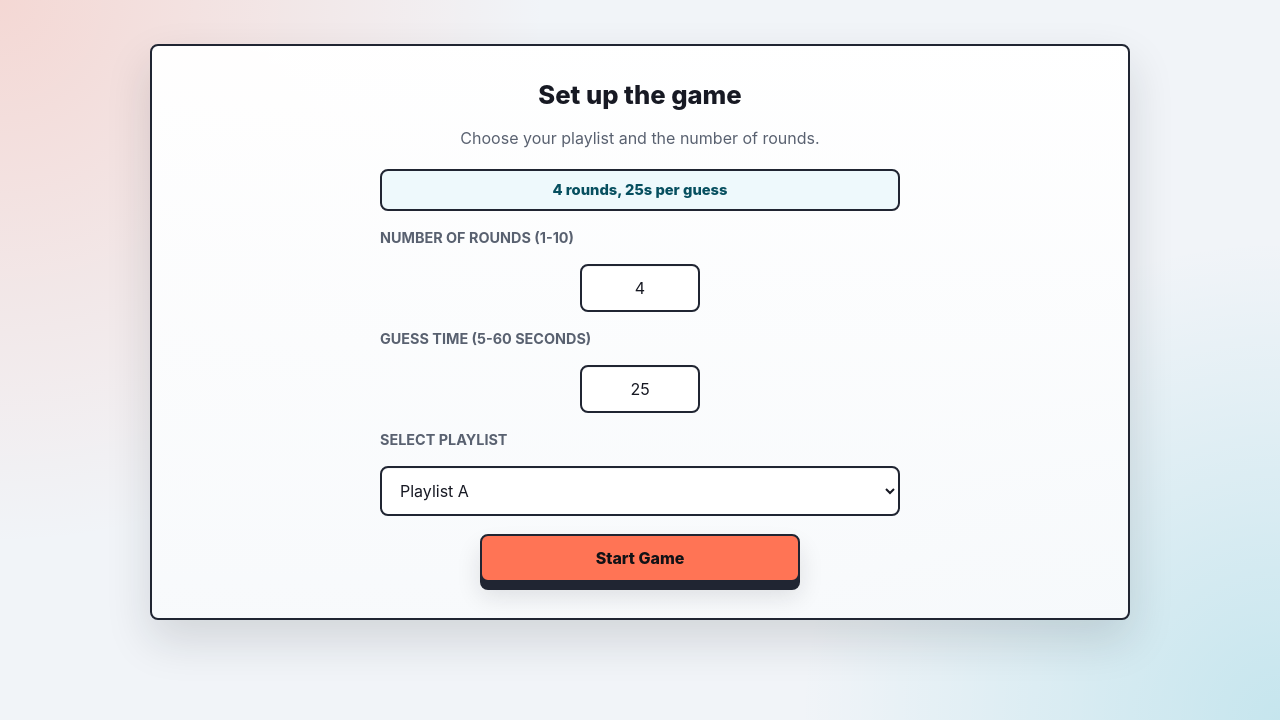
it: SetupScreen › submits setup payload and locks after a successful send
The image size is (1280, 720).
Expected: the text "4 rounds, 25s per guess" is shown, [380,168,900,210]
Replace the text in the field labelled "Number of Rounds (1-10)" with "6" at [640, 288], box [580,264,700,312]
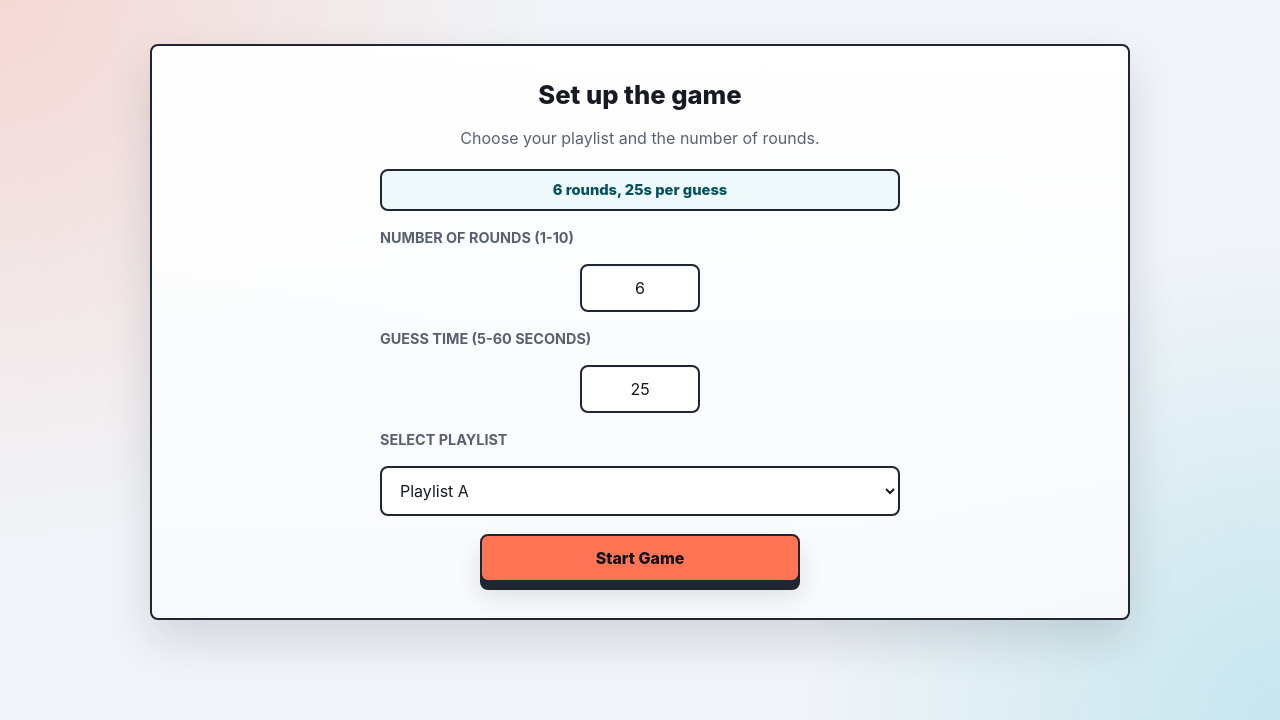
Replace the text in the field labelled "Guess Time (5-60 seconds)" with "30" at [640, 388], box [580,364,700,412]
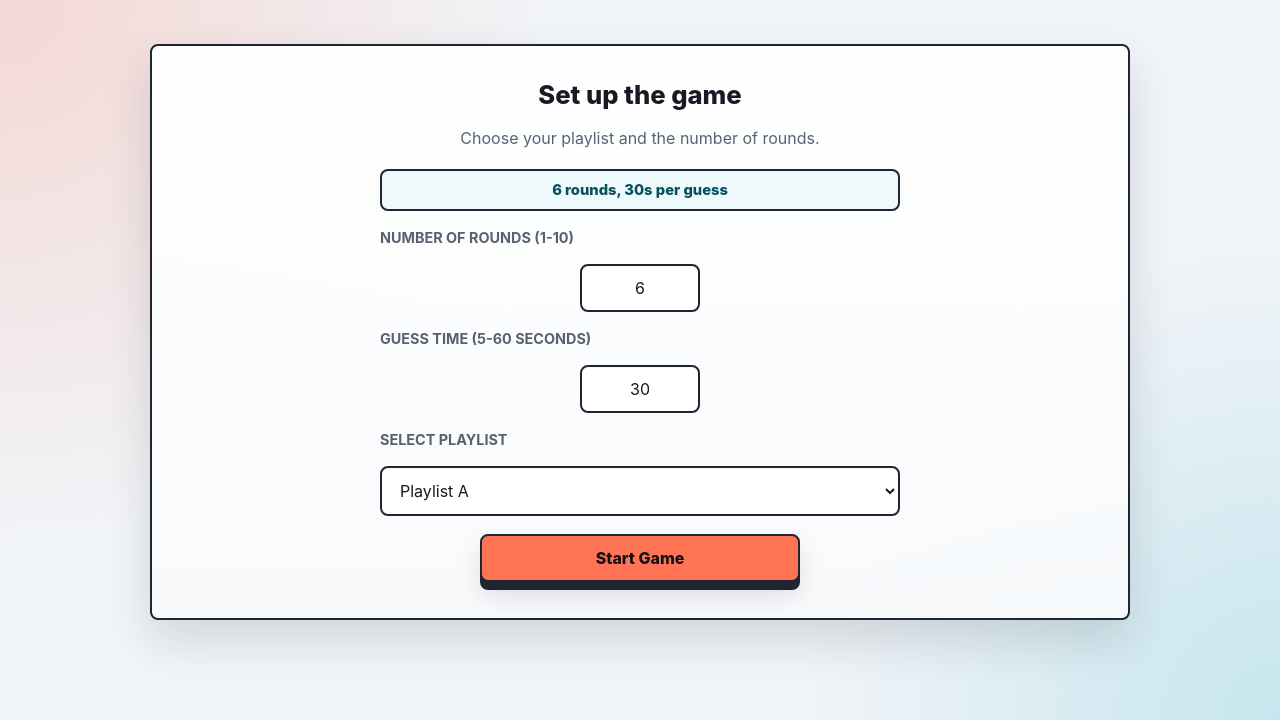
Select "Playlist B" in the dropdown labelled "Select Playlist" at [640, 490], box [380,466,900,516]
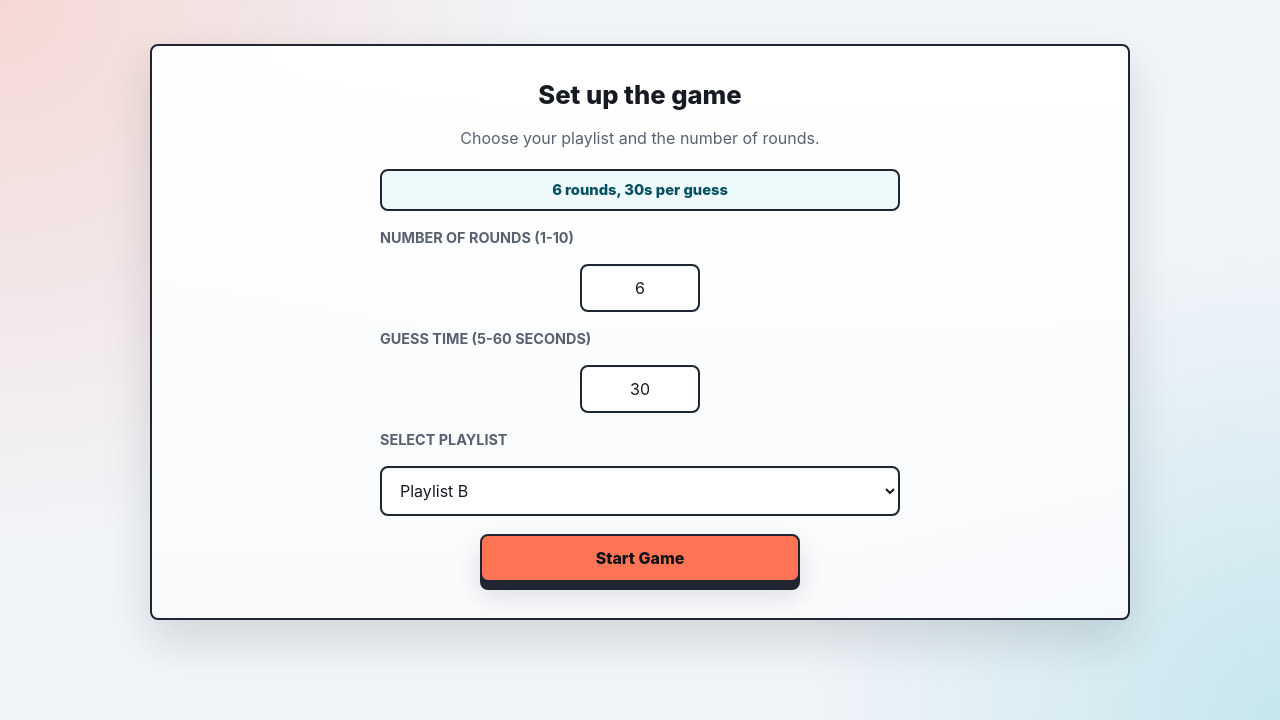
Expected: the text "6 rounds, 30s per guess" is shown, [380,168,900,210]
Click the button "Start Game" at [640, 558], box [480,534,800,582]
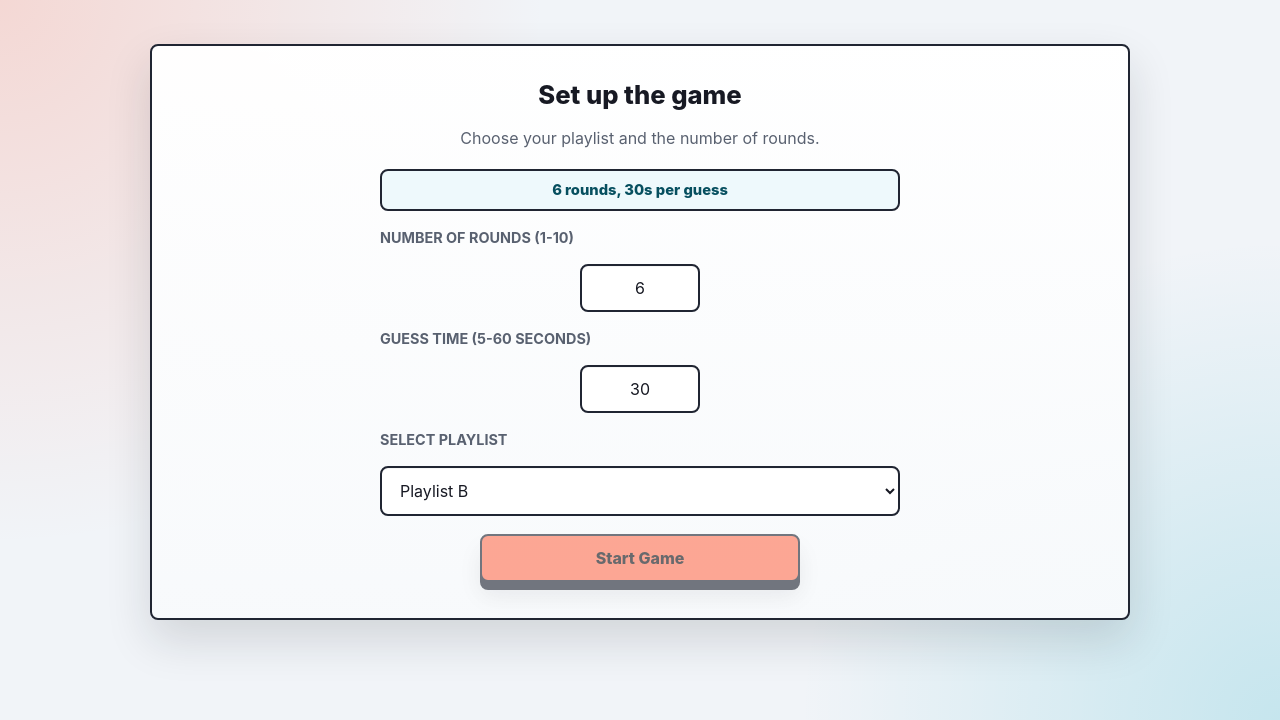
Expected: the button "Start Game" is disabled, [480,534,800,582]
